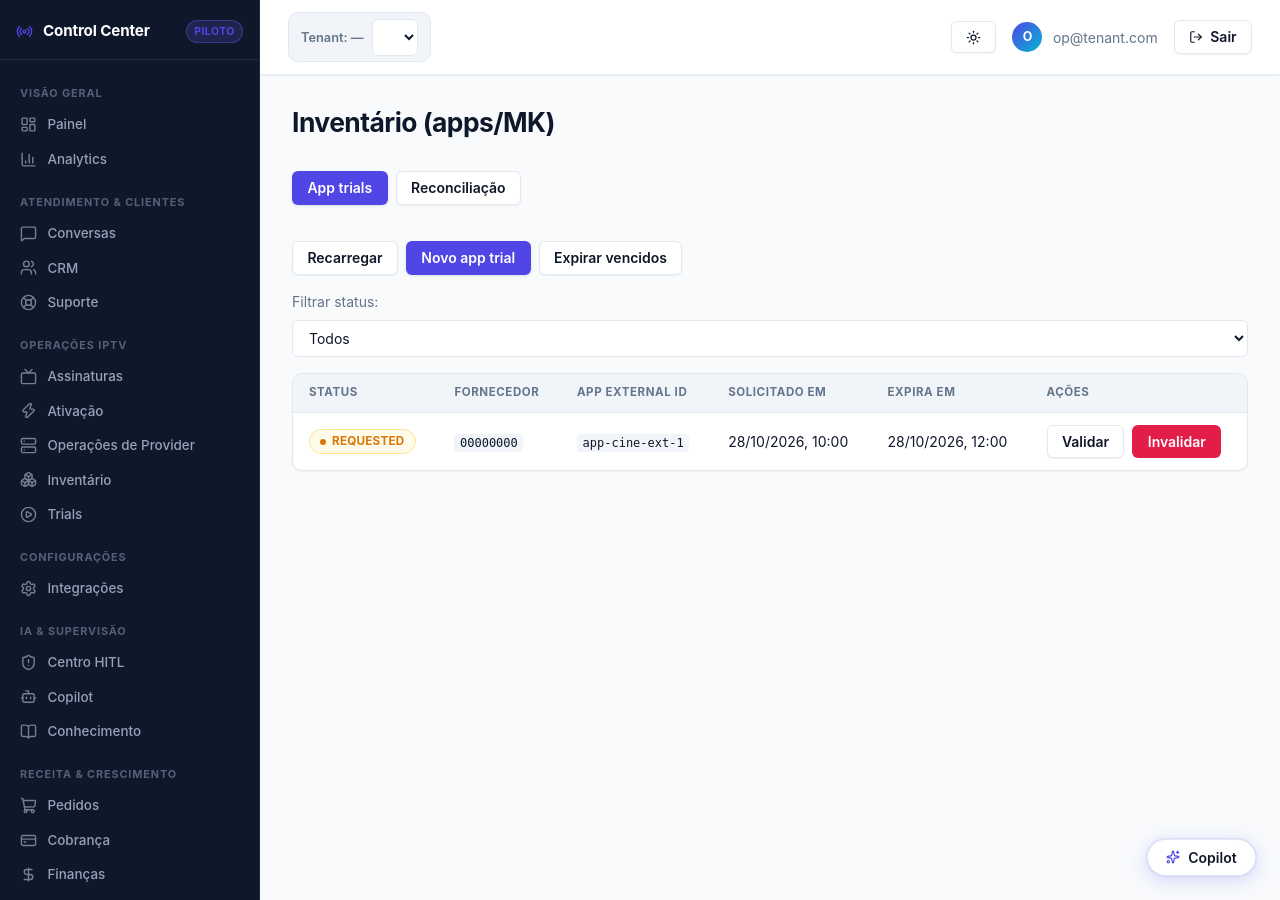
Test: InventoryPage › lista app trials, expira vencidos e valida com confirmação
Expected: the heading "Inventário (apps/MK)" is shown, [292, 106, 555, 138]
Expected: the text "app-cine-ext-1" is shown, [577, 434, 689, 452]
Note: Expirar vencidos
Step 1. Click the button "Expirar vencidos" → (610, 258), box [539, 241, 682, 275]
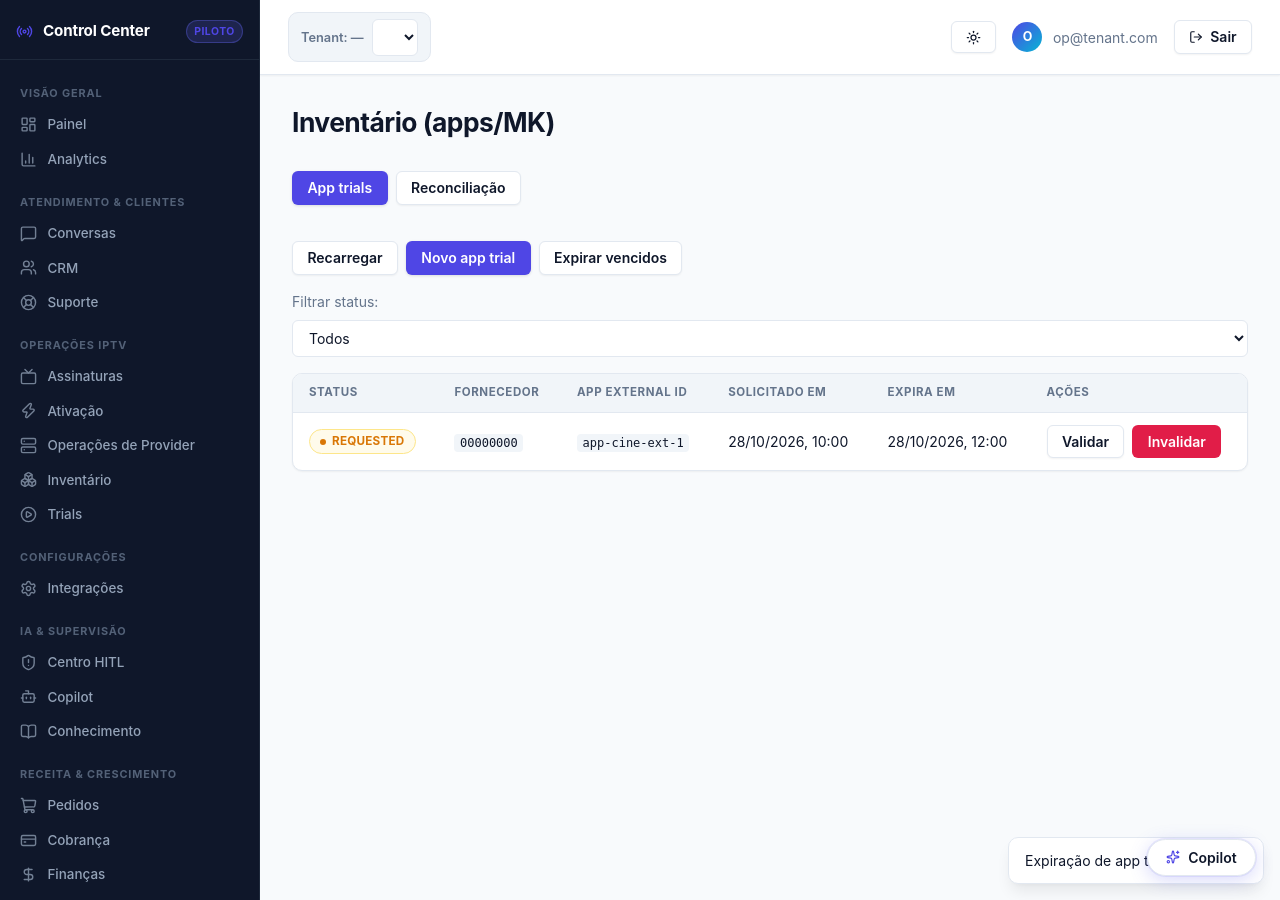
Result: the text "Expiração de app trials solicitada." is shown at [1008, 837, 1264, 884]
Note: Validar app trial (preserva rótulos exatos do teste legado)
Step 2. Click the button "Validar" → (1085, 442), box [1046, 425, 1124, 458]
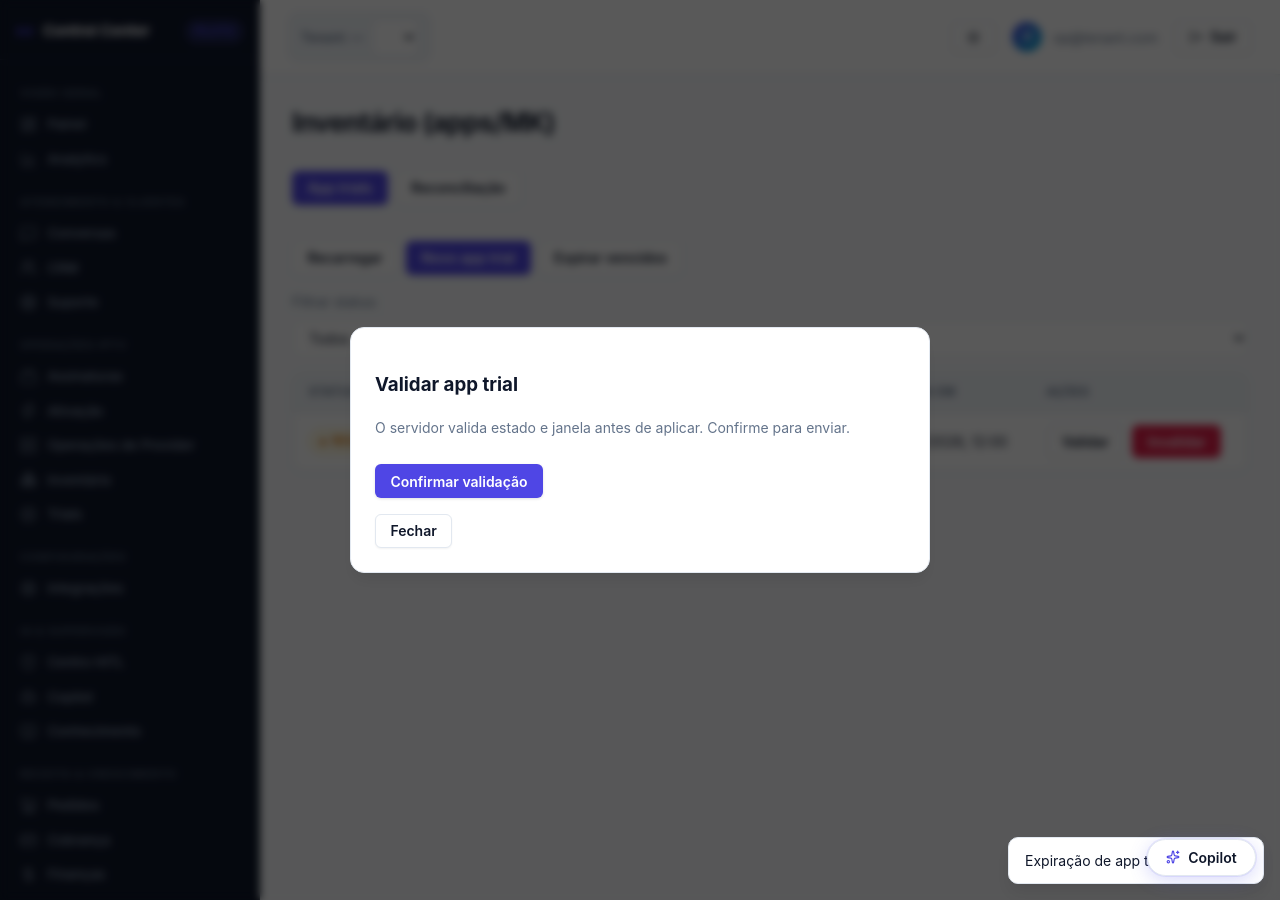
Step 3. Click the button "Confirmar validação" → (459, 481), box [375, 464, 543, 498]
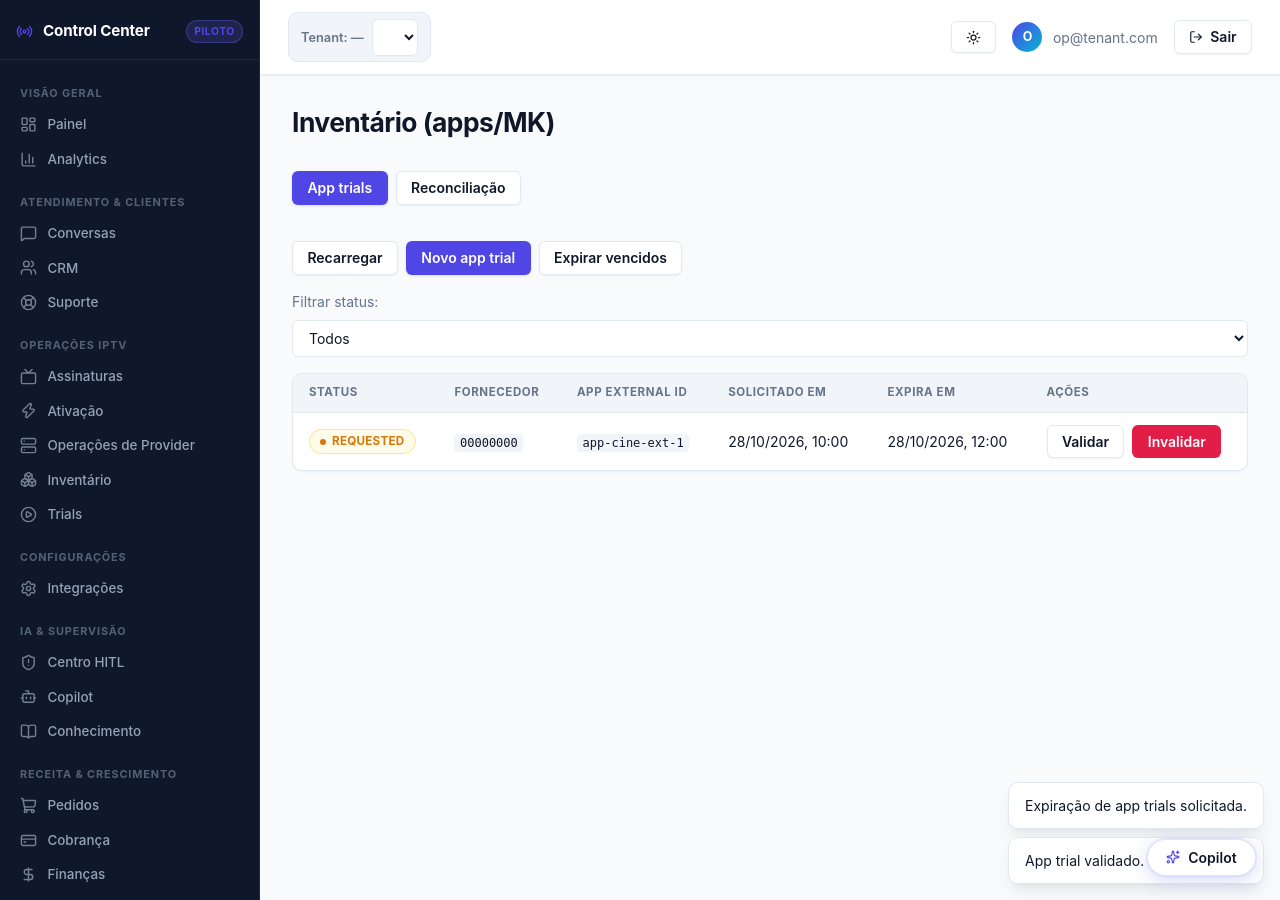
Result: the text "App trial validado." is shown at [1008, 837, 1264, 884]
